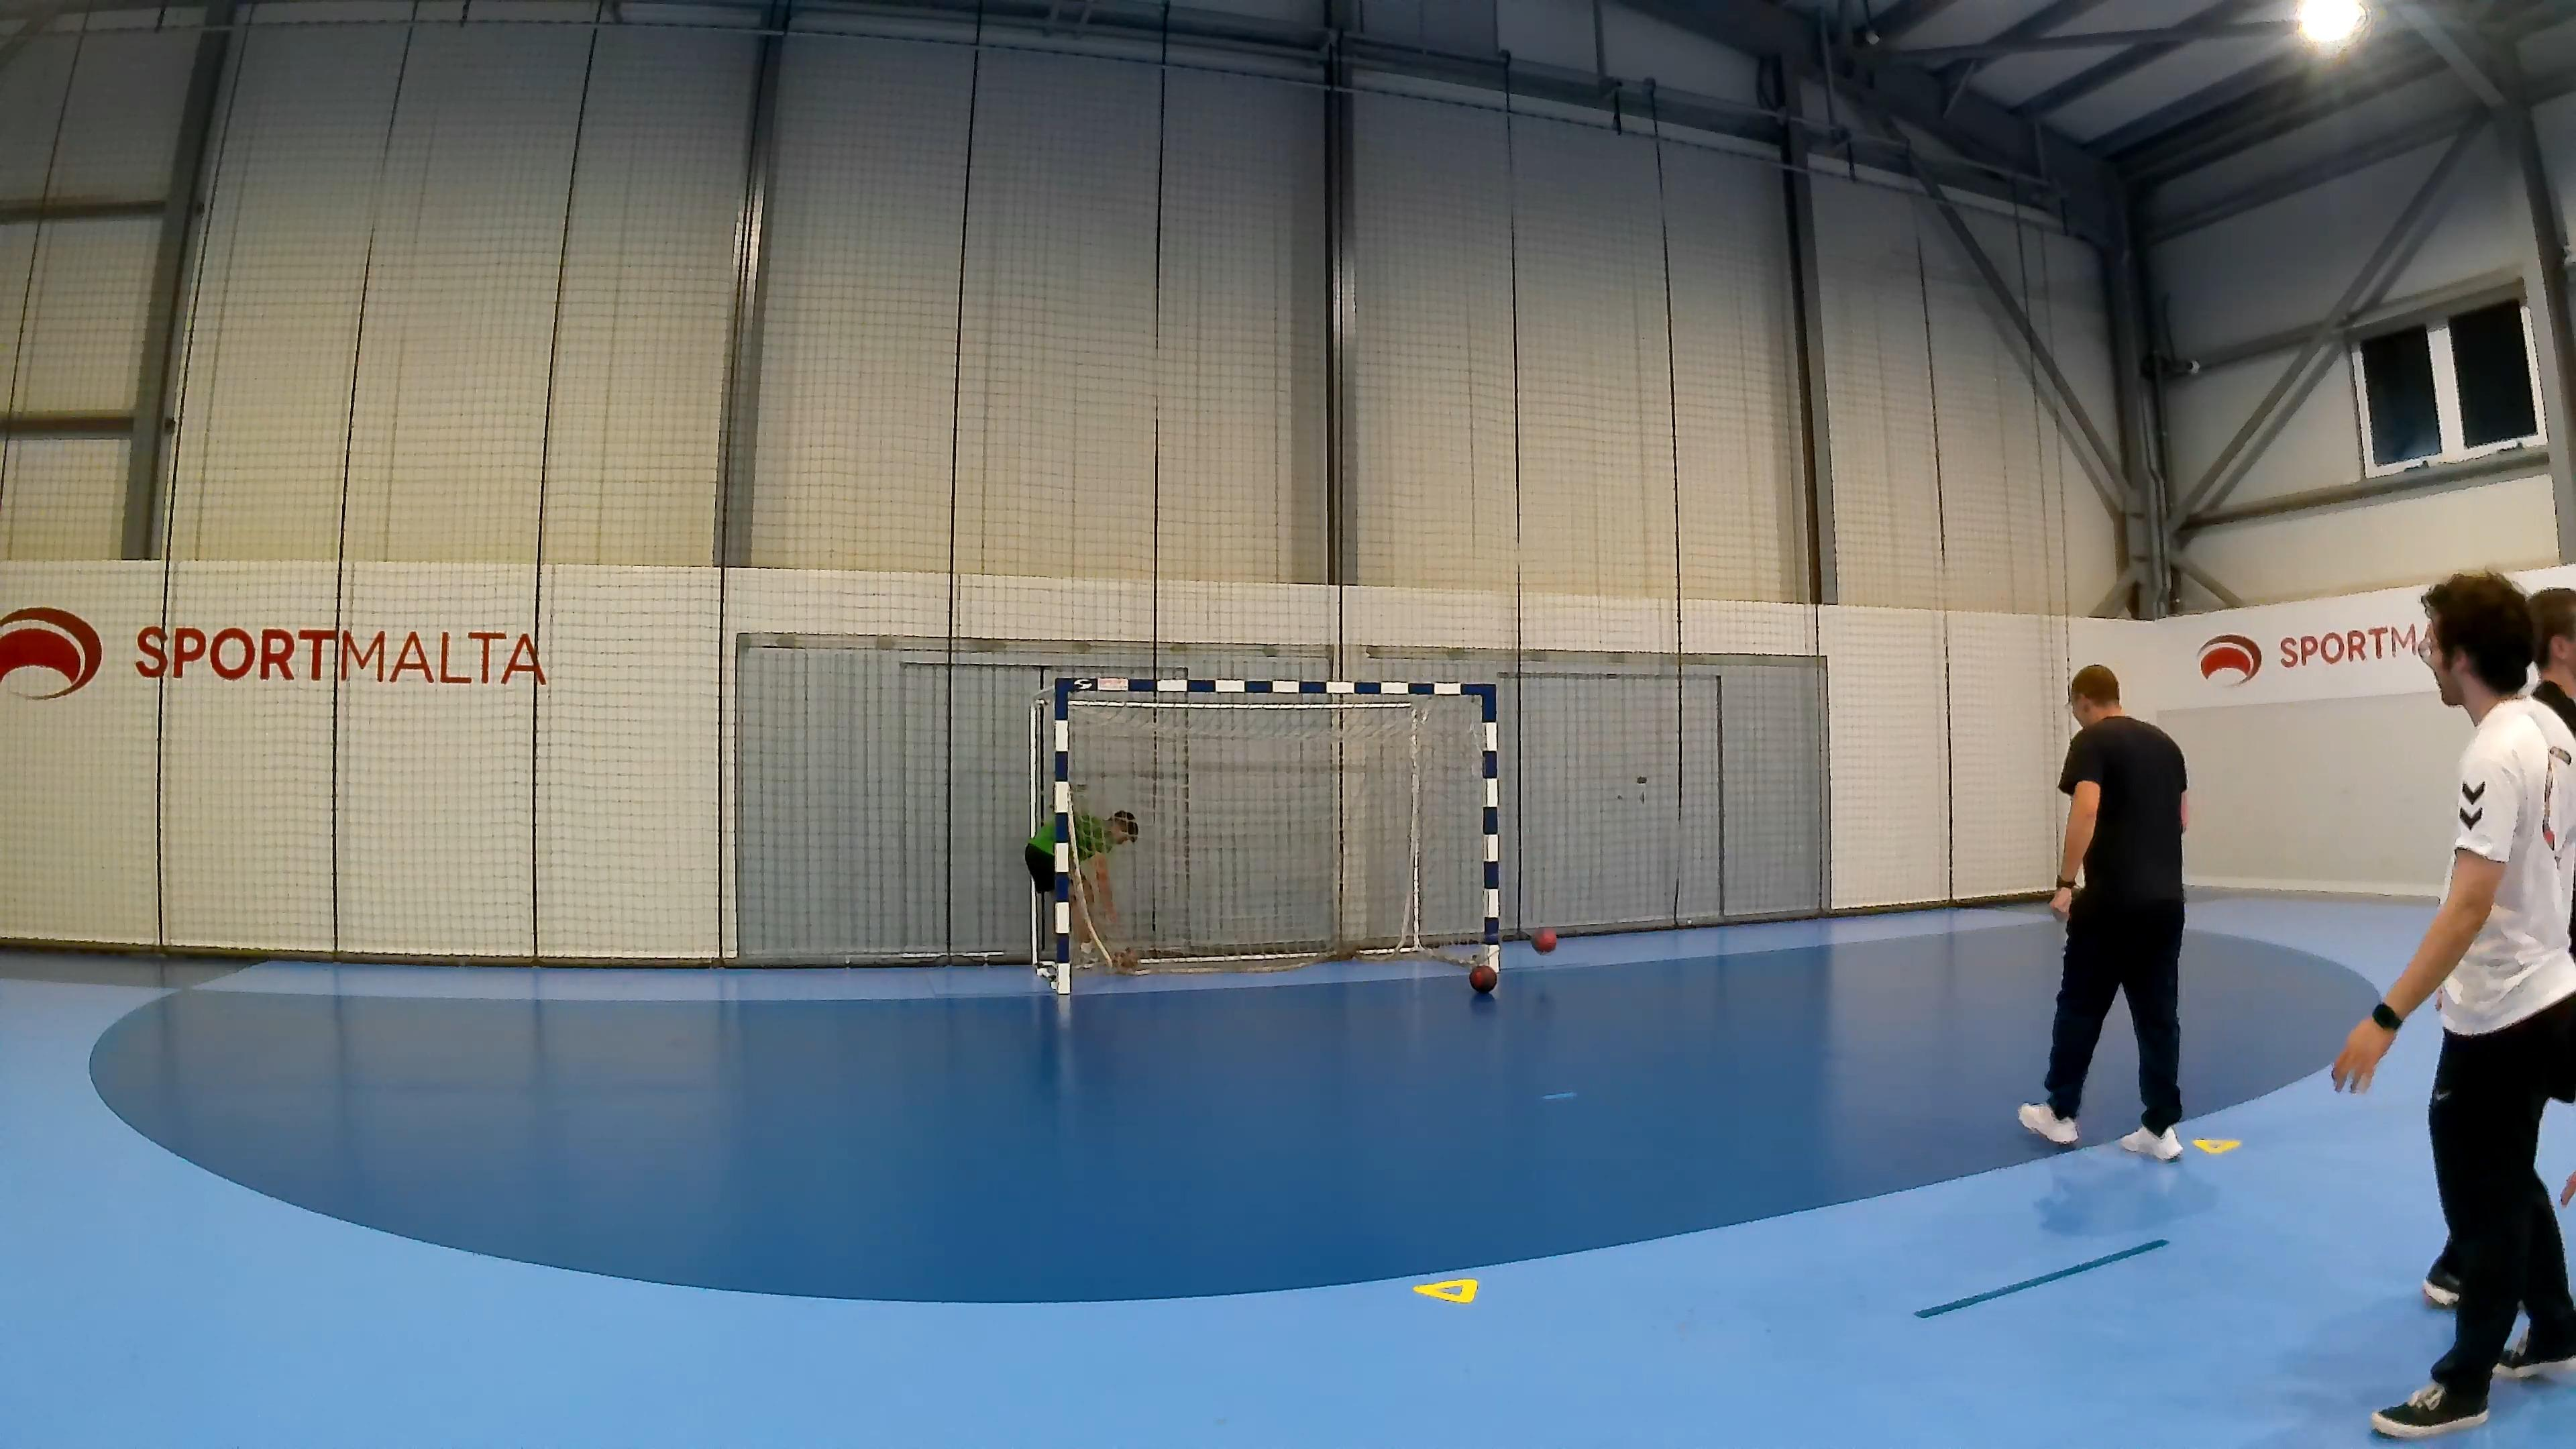handball: (1468, 962, 1497, 993), (1532, 925, 1555, 952)
